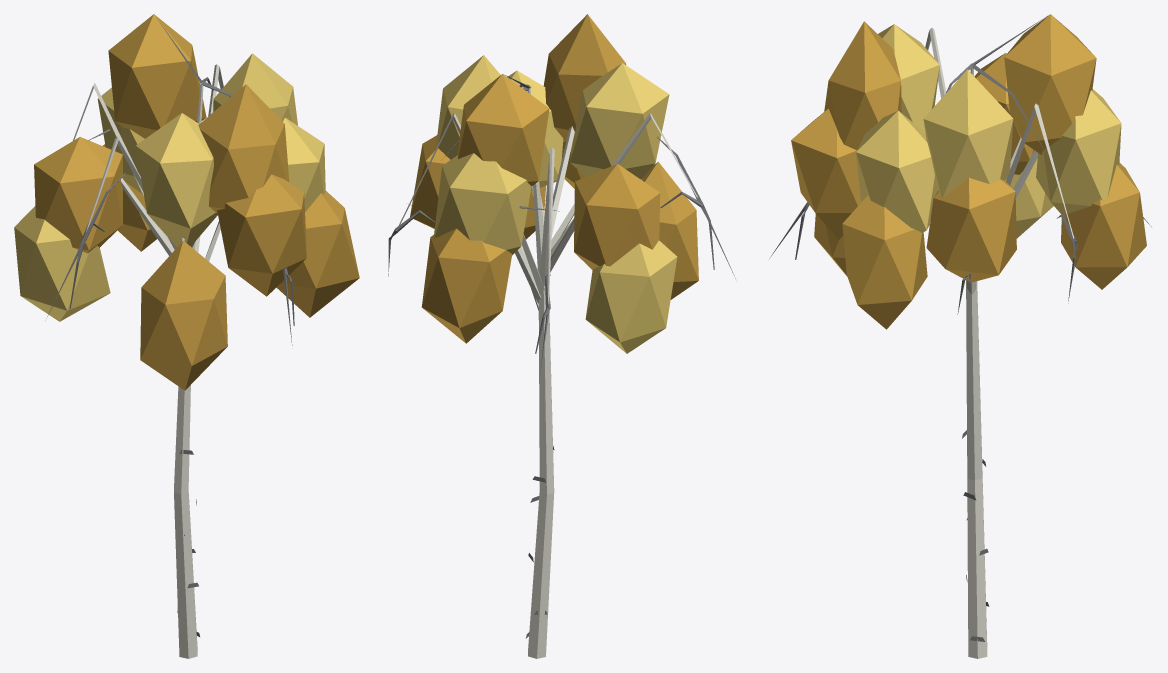
File: birch_winter_light_03.glb
3 renders of one model, left to right at view 1: azimuth 30°, elevation 25°; view 2: azimuth 150°, elevation 25°; view 3: azimuth 270°, elevation 25°, orthographic. The views are drawn at different scales.
Visible parts, largest first — view 1: Birch_winter_light_03; view 2: Birch_winter_light_03; view 3: Birch_winter_light_03.
Part boxes in pixels (box(x1,y1,x2,y2)): Birch_winter_light_03: box(14, 14, 359, 658); Birch_winter_light_03: box(388, 14, 735, 658); Birch_winter_light_03: box(769, 14, 1151, 658).
Size of the model in its own units: 8.5 by 16.03 by 8.75.
